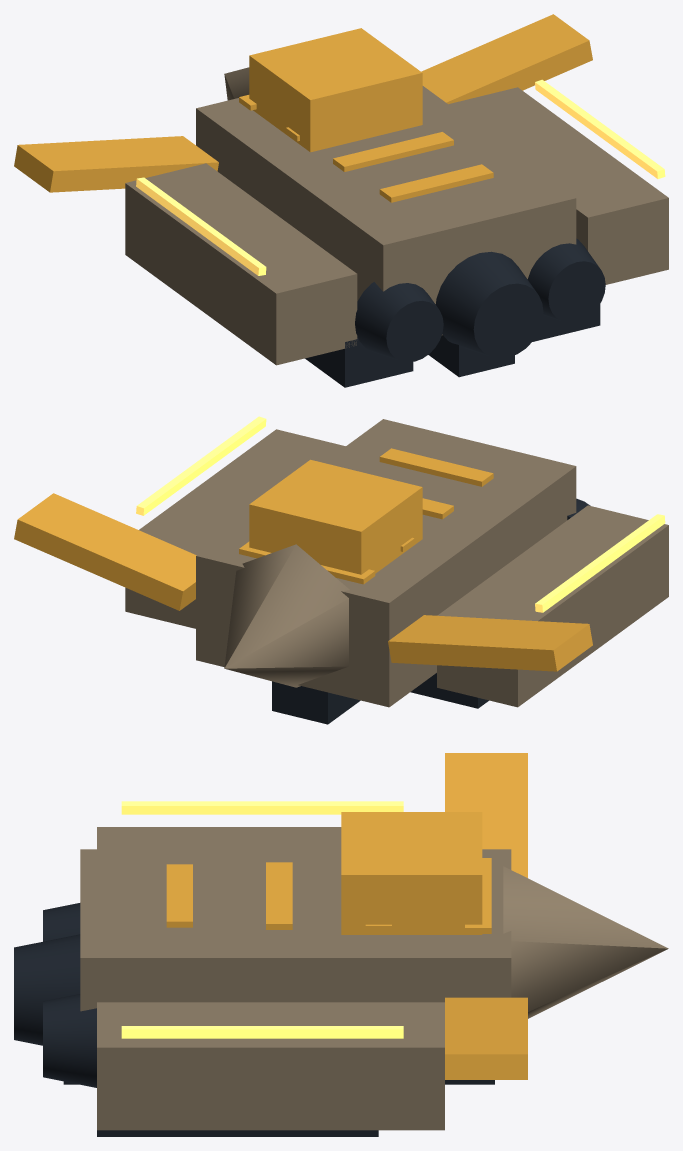
Rendered from mule-lx.glb.
3 views of the same model, one above another, from view 1: azimuth 30°, elevation 25°; view 2: azimuth 150°, elevation 25°; view 3: azimuth 270°, elevation 25° (orthographic). The views are drawn at different scales.
Visible parts, largest first — view 1: wide armored cargo spine, stacked cargo pod upper -1, stacked cargo pod upper 1, raised freight bridge, central freight bell, yellow docking truss 1, yellow docking truss -1, large freight nozzle -1, large freight nozzle 1, stacked cargo pod lower -1, cargo running light 1, cargo running light -1 (+5 smaller); view 2: wide armored cargo spine, stacked cargo pod upper -1, raised freight bridge, blunt bridge prow, yellow docking truss 1, stacked cargo pod upper 1, yellow docking truss -1, ventral reinforced rail, cargo running light 1, cargo running light -1, mule dorsal plate 3, stacked cargo pod lower -1 (+2 smaller); view 3: wide armored cargo spine, stacked cargo pod upper 1, raised freight bridge, blunt bridge prow, yellow docking truss -1, yellow docking truss 1, stacked cargo pod upper -1, central freight bell, large freight nozzle 1, cargo running light -1, cargo running light 1, stacked cargo pod lower 1 (+4 smaller).
Boxes of the visible parts, x1,y1,x2,y2 form: wide armored cargo spine: [196, 86, 576, 335]; stacked cargo pod upper -1: [125, 163, 357, 365]; stacked cargo pod upper 1: [448, 87, 668, 284]; raised freight bridge: [249, 28, 422, 152]; central freight bell: [435, 251, 543, 358]; yellow docking truss 1: [421, 14, 592, 104]; yellow docking truss -1: [14, 136, 218, 192]; large freight nozzle -1: [355, 282, 443, 362]; large freight nozzle 1: [527, 238, 605, 322]; stacked cargo pod lower -1: [305, 338, 413, 387]; cargo running light 1: [535, 79, 665, 178]; cargo running light -1: [136, 177, 266, 275]; wide armored cargo spine: [196, 419, 576, 707]; stacked cargo pod upper -1: [437, 505, 668, 707]; raised freight bridge: [249, 459, 422, 574]; blunt bridge prow: [224, 544, 349, 687]; yellow docking truss 1: [14, 493, 196, 610]; stacked cargo pod upper 1: [125, 429, 345, 628]; yellow docking truss -1: [388, 615, 592, 671]; ventral reinforced rail: [272, 681, 360, 724]; cargo running light 1: [136, 416, 266, 515]; cargo running light -1: [535, 514, 665, 612]; mule dorsal plate 3: [379, 448, 493, 486]; stacked cargo pod lower -1: [410, 673, 488, 708]; wide armored cargo spine: [80, 849, 511, 1011]; stacked cargo pod upper 1: [97, 1002, 444, 1130]; raised freight bridge: [341, 812, 482, 934]; blunt bridge prow: [503, 866, 668, 1018]; yellow docking truss -1: [445, 753, 527, 877]; yellow docking truss 1: [445, 997, 527, 1079]; stacked cargo pod upper -1: [97, 827, 341, 849]; central freight bell: [14, 934, 80, 1045]; large freight nozzle 1: [43, 994, 96, 1087]; cargo running light -1: [121, 801, 403, 814]; cargo running light 1: [121, 1026, 403, 1038]; stacked cargo pod lower 1: [97, 1130, 378, 1136].
Size of the model in its own units: 83.65 by 28.8 by 75.84.
